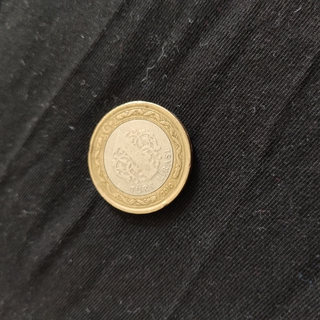1TL: (86, 99, 193, 216)
